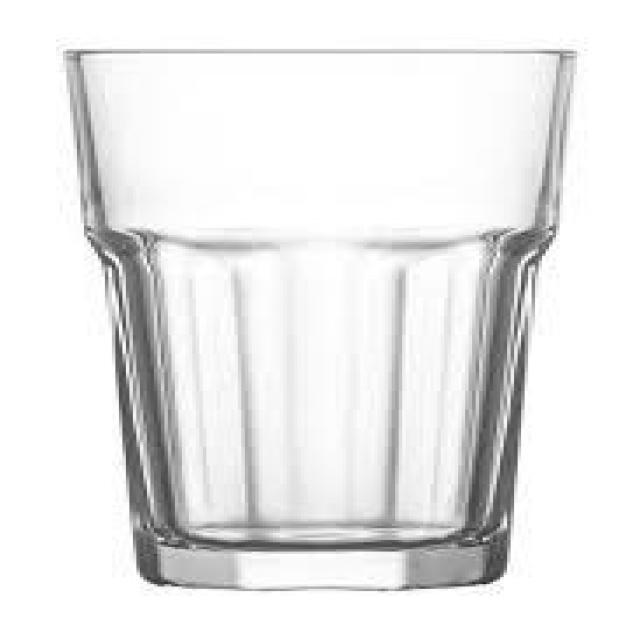non-organic waste: (39, 36, 591, 597)
